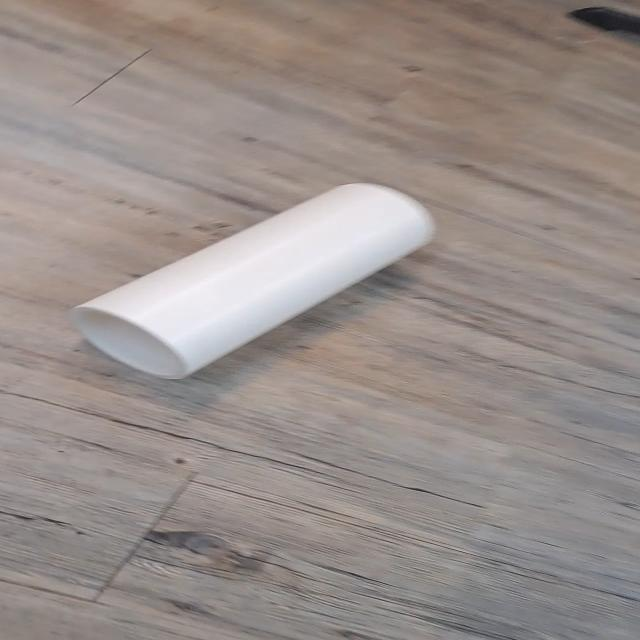CORAL: (60, 172, 447, 401)
